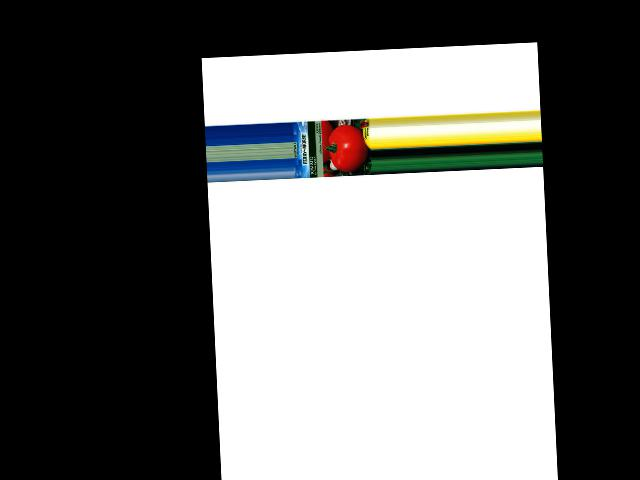tomato: (328, 123, 369, 172)
